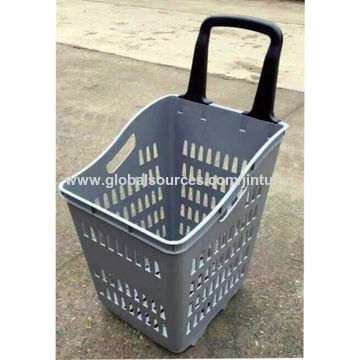with_basket: (59, 17, 289, 346)
